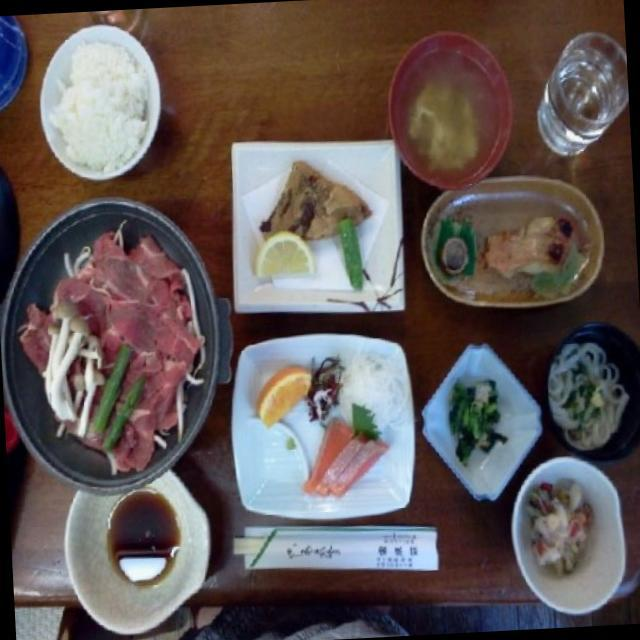Rice: (44, 38, 150, 168)
